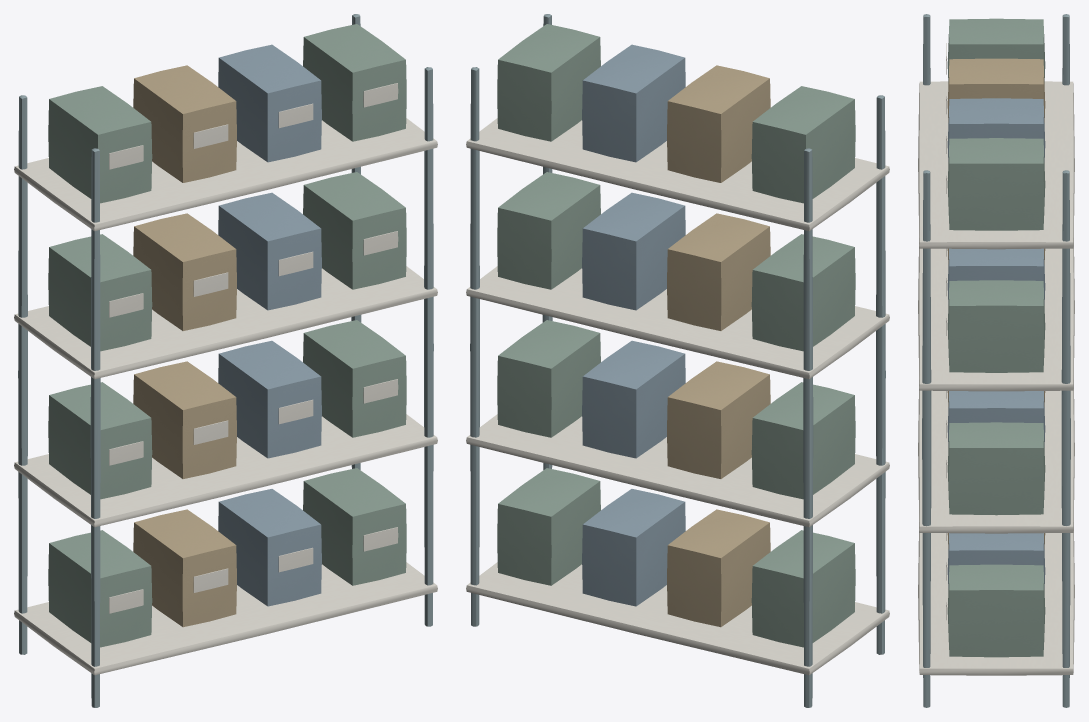
Rendered from shelf.glb.
3 views of the same model, side by side, from view 1: azimuth 30°, elevation 25°; view 2: azimuth 150°, elevation 25°; view 3: azimuth 270°, elevation 25° (orthographic). The views are drawn at different scales.
Parts seen in each view (by area): view 1: shelf; view 2: shelf; view 3: shelf.
Boxes of the visible parts, box(x1,y1,x2,y2) form: shelf: box(14, 14, 437, 707); shelf: box(466, 14, 889, 707); shelf: box(918, 14, 1074, 707).
Bounding box in the file's own units: 1.1 × 1.71 × 0.45.
40 materials, 40 textured.
